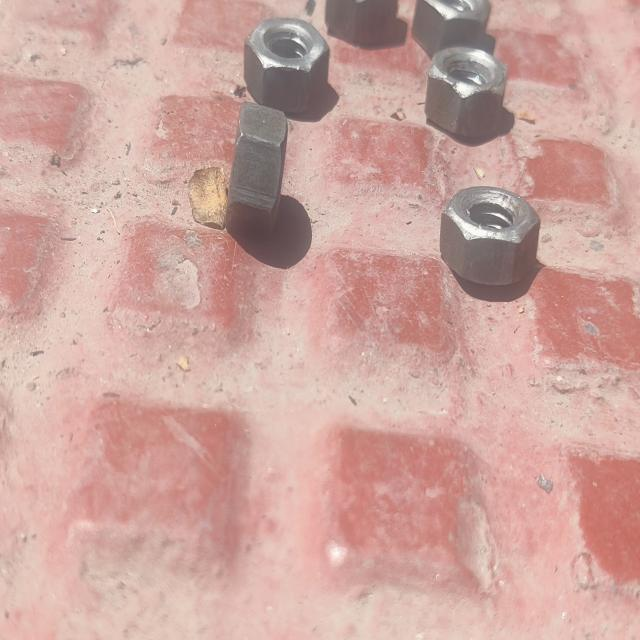disinfected nut: (440, 187, 540, 287), (225, 103, 288, 237), (245, 17, 330, 113), (425, 47, 508, 137), (412, 0, 490, 57), (325, 0, 398, 47)
